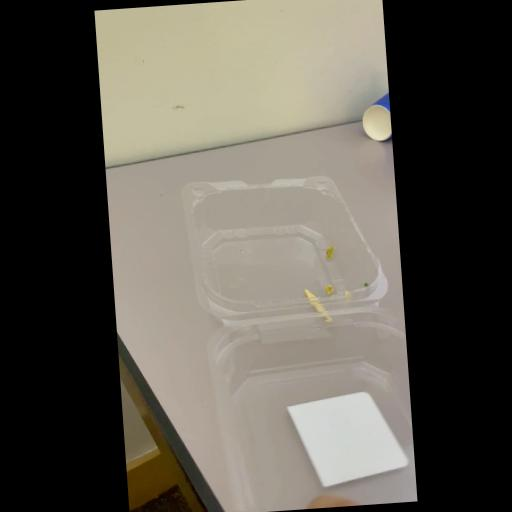lp_paper_cup: (359, 90, 392, 144)
small_plastic_container: (178, 170, 416, 512)
